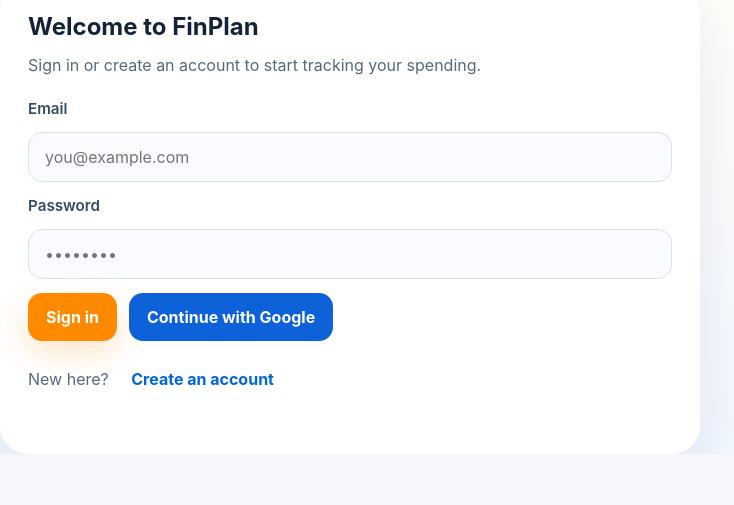
AuthPage › google sign-in error shows provider-specific message
Click the button "Continue with Google": coordinates (231, 317) [129,293,333,341]
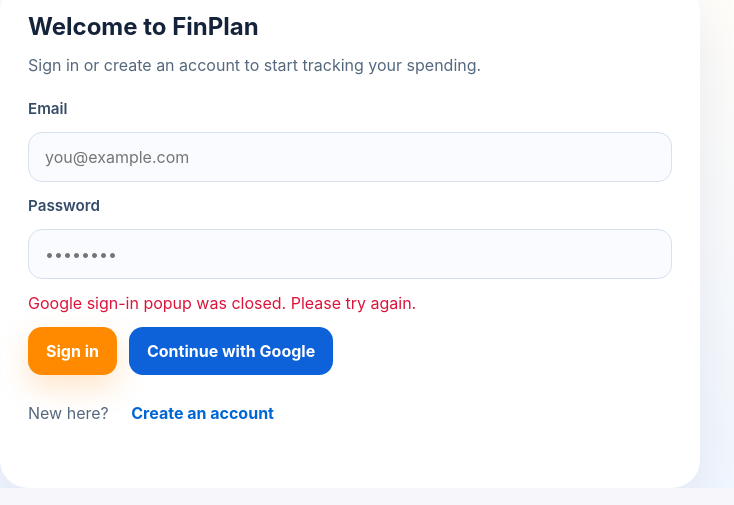
Now the text "Google sign-in popup was closed. Please try again." is shown, box [28,293,416,313]
